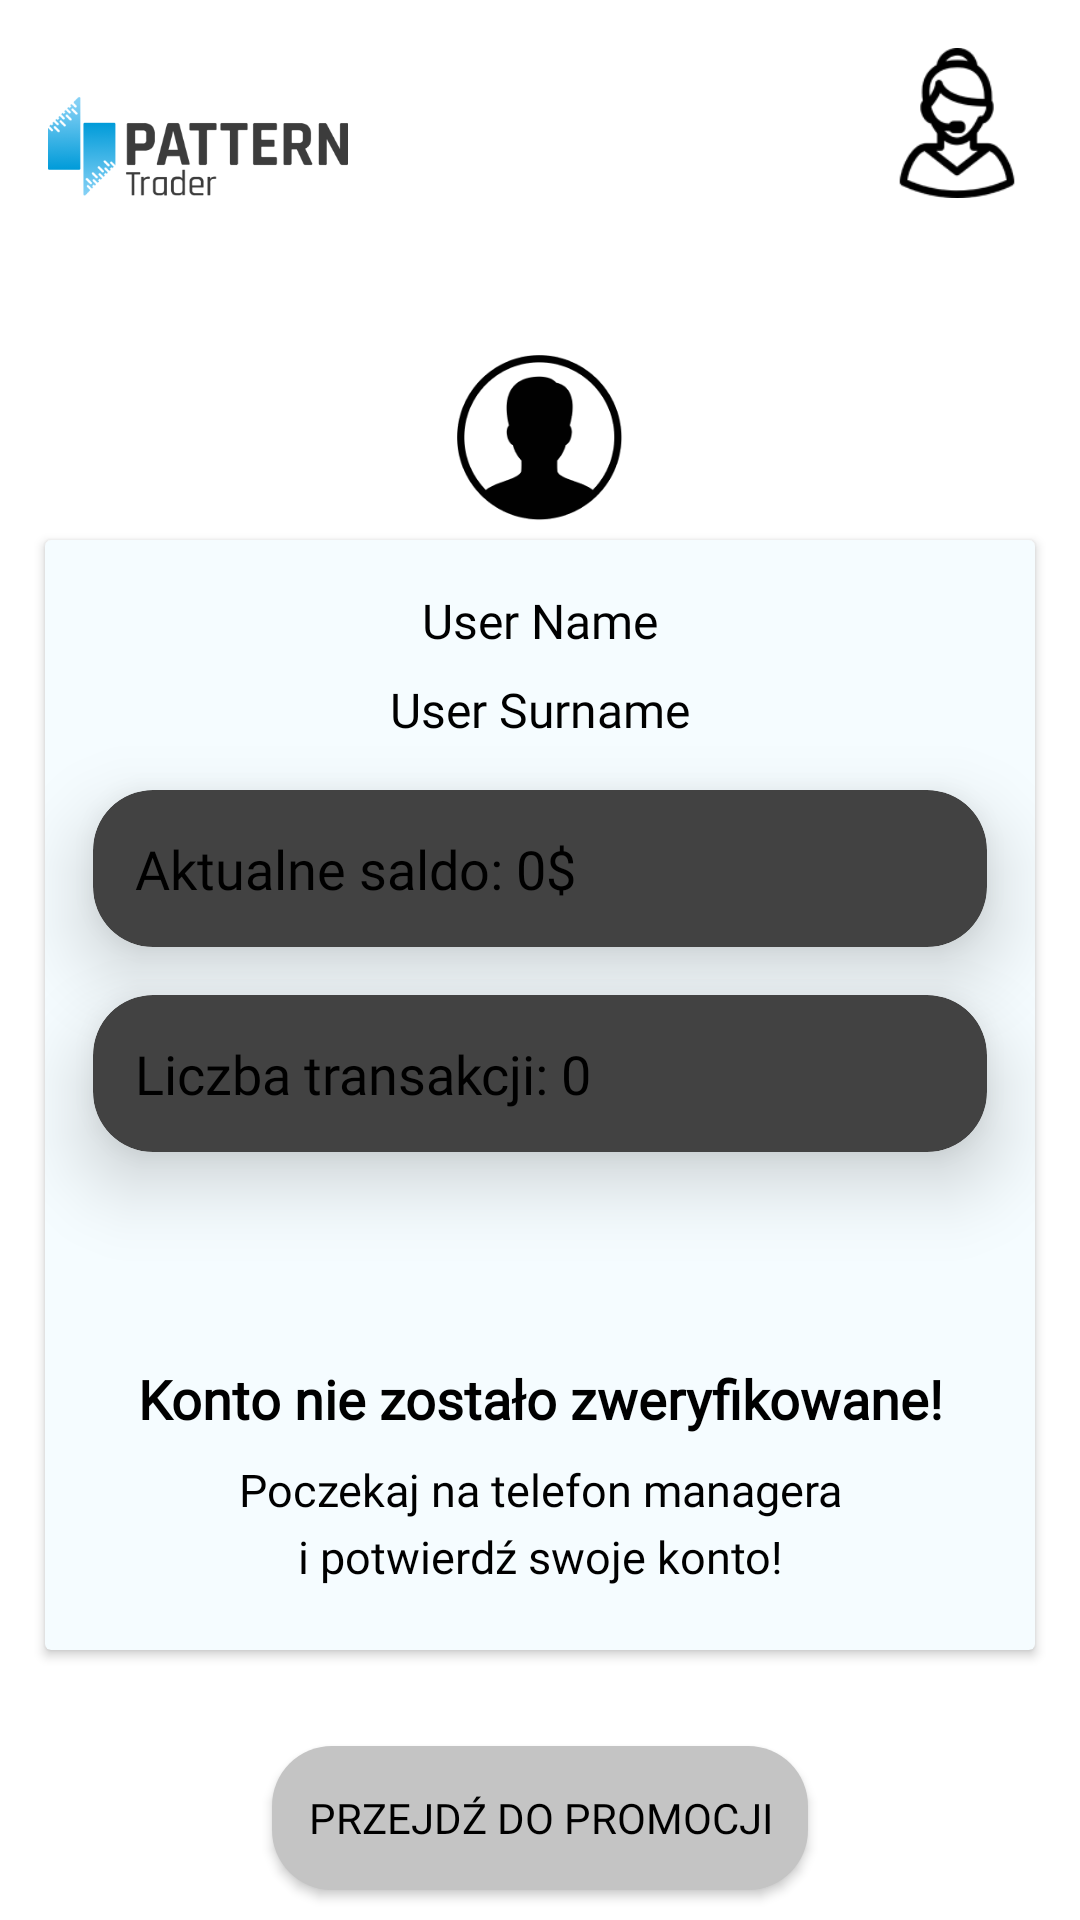

Icons on this 1080px x 1920px Android screen, each with its box as (x1, y1, x2, y2):
support: (899, 48, 1015, 198)
